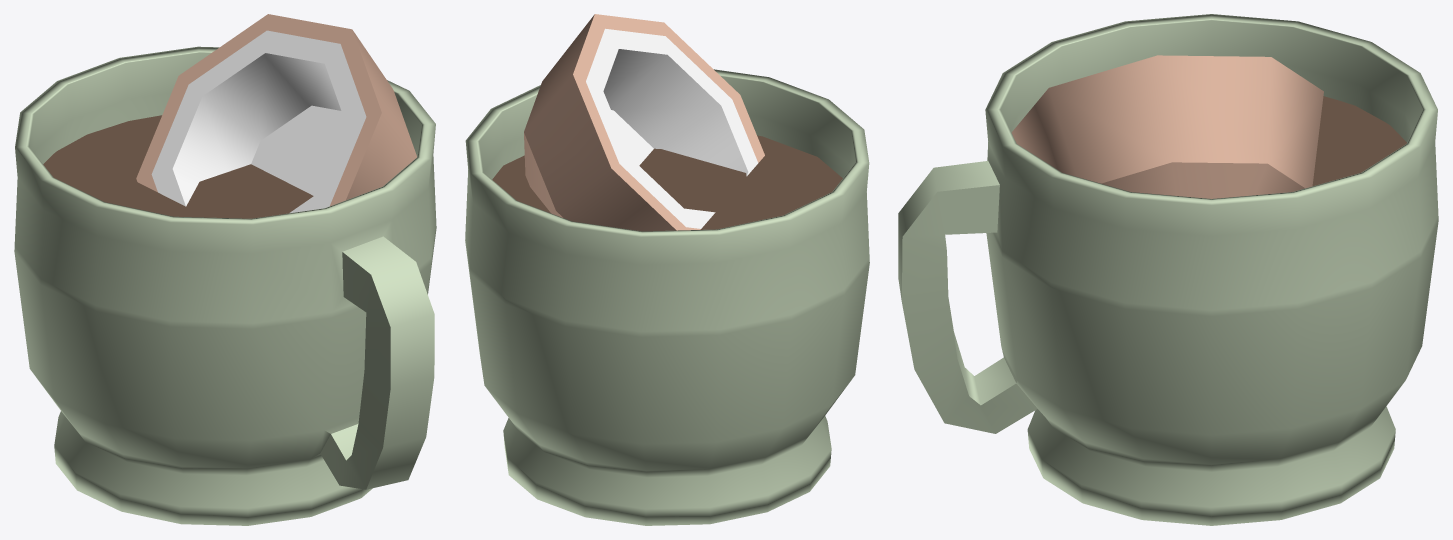
The model's file is drink1_nutty.fbx.
3 renders of one model, left to right at view 1: azimuth 30°, elevation 25°; view 2: azimuth 150°, elevation 25°; view 3: azimuth 270°, elevation 25°, orthographic. The views are drawn at different scales.
Parts seen in each view (by area): view 1: nurbsToPoly1, coconutHalf, pDisc1; view 2: nurbsToPoly1, coconutHalf, pDisc1; view 3: nurbsToPoly1, coconutHalf, pDisc1.
Boxes of the visible parts, x1,y1,x2,y2 form: nurbsToPoly1: (14,46,436,525); coconutHalf: (136,14,416,213); pDisc1: (43,115,313,218); nurbsToPoly1: (465,69,869,525); coconutHalf: (524,14,764,231); pDisc1: (492,135,842,229); nurbsToPoly1: (898,14,1438,525); coconutHalf: (1011,55,1323,198); pDisc1: (1312,96,1406,185).
Size of the model in its own units: 30.65 by 33.23 by 36.48.
